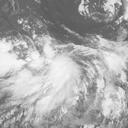cyclone: (31, 39, 95, 103)
